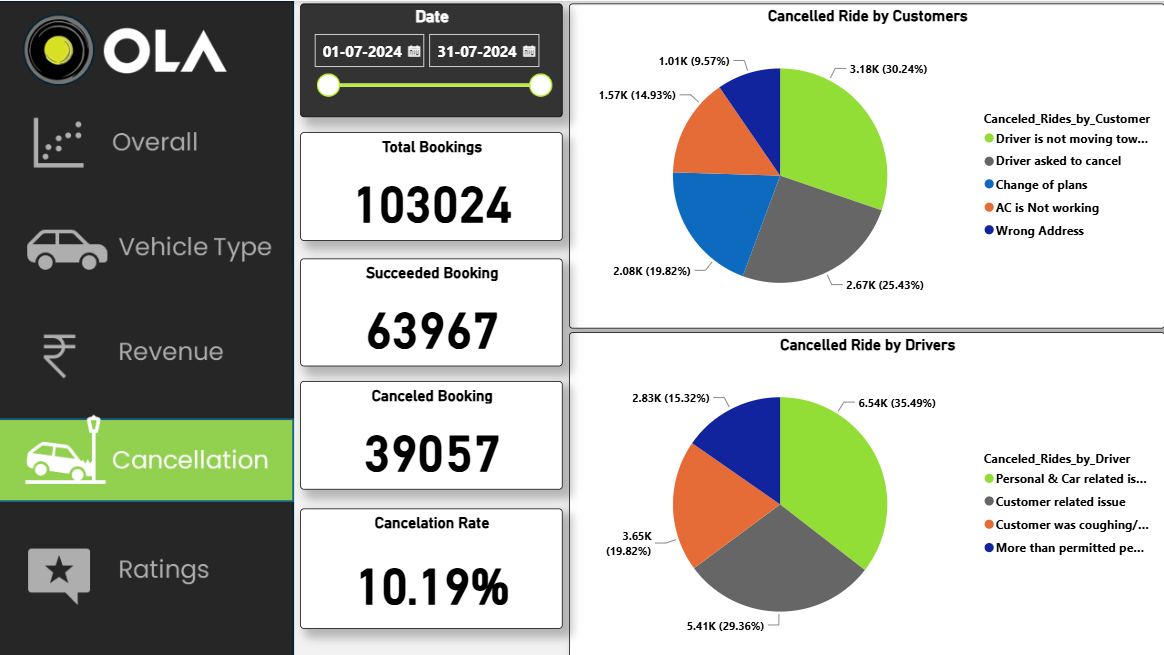

The page's visual inventory and layout, read from the dashboard file:
{"tool":"powerbi","page":{"name":"Cancelaton","canvas":[1280,720],"ordinal":3},"visuals":[{"type":"actionButton","box":[0,112.2,325.6,91.7],"z":0},{"type":"actionButton","box":[0,219.5,325.6,91.7],"z":1000},{"type":"actionButton","box":[0,338.9,325.6,91.7],"z":2000},{"type":"actionButton","box":[0,577.7,325.6,91.7],"z":3000},{"type":"pieChart","title":"Cancelled Ride by Customers","fields":{"Category":["July.Canceled_Rides_by_Customer"],"Y":["CountNonNull(July.Canceled_Rides_by_Customer)"]},"box":[625.5,2.7,654.5,356.8],"z":4000},{"type":"pieChart","title":"Cancelled Ride by Drivers","fields":{"Category":["July.Canceled_Rides_by_Driver"],"Y":["CountNonNull(July.Canceled_Rides_by_Driver)"]},"box":[625.7,363.6,654.5,356.8],"z":5000},{"type":"slicer","title":"Date","fields":{"Values":["July.Date"]},"box":[330.7,2.7,288.2,124.9],"z":6000},{"type":"card","title":"Total Bookings","fields":{"Values":["CountNonNull(July.Booking_ID)"]},"box":[330.7,144.1,288.2,119.4],"z":7000},{"type":"card","title":"Succeeded Booking","fields":{"Values":["CountNonNull(July.Booking_ID)"]},"box":[330.7,282.7,288.2,118],"z":8000},{"type":"card","title":"Canceled Booking","fields":{"Values":["CountNonNull(July.Booking_ID)"]},"box":[330.7,417.2,288.2,119.4],"z":9000},{"type":"card","title":"Cancelation Rate","fields":{"Values":["July.CanceledPercentage"]},"box":[330.7,557.1,288.2,131.7],"z":10000}]}

Visuals, with their boxes in screenshot pixels (x1, y1, x2, y2), scaled from the page's 1280x720 canvas onto the 1164x655 screenshot:
actionButton: [0,102,296,185]
actionButton: [0,200,296,283]
actionButton: [0,308,296,392]
actionButton: [0,526,296,609]
"Cancelled Ride by Customers" pieChart: [569,2,1163,327]
"Cancelled Ride by Drivers" pieChart: [569,331,1163,654]
"Date" slicer: [301,2,563,116]
"Total Bookings" card: [301,131,563,240]
"Succeeded Booking" card: [301,257,563,365]
"Canceled Booking" card: [301,380,563,488]
"Cancelation Rate" card: [301,507,563,627]
